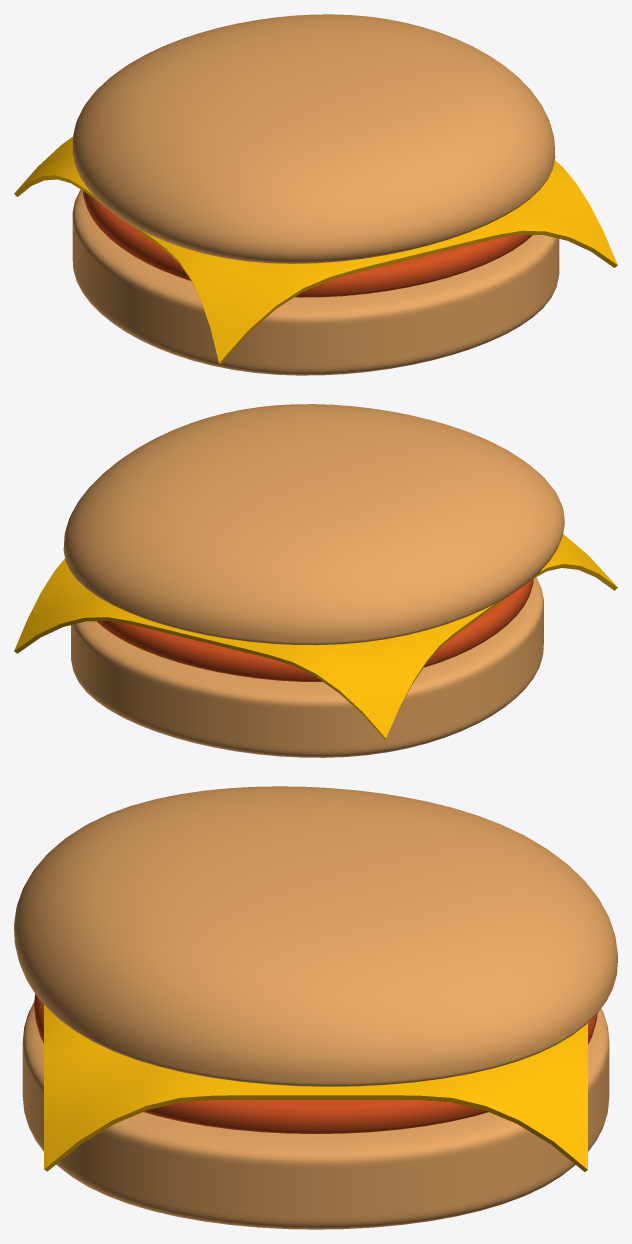
File: hamburger.glb
3 views of the same model, one above another, from view 1: azimuth 30°, elevation 25°; view 2: azimuth 150°, elevation 25°; view 3: azimuth 270°, elevation 25° (orthographic). The views are drawn at different scales.
Parts seen in each view (by area): view 1: Cube.002, Cube, Plane, Cube.001; view 2: Cube.002, Cube, Plane, Cube.001; view 3: Cube.002, Cube, Plane, Cube.001.
Boxes of the visible parts, box(x1,y1,x2,y2) form: Cube.002: box(72, 14, 555, 263); Cube: box(72, 189, 559, 375); Plane: box(14, 137, 617, 364); Cube.001: box(83, 191, 532, 297); Cube.002: box(63, 404, 564, 645); Cube: box(71, 577, 543, 757); Plane: box(14, 534, 617, 739); Cube.001: box(97, 579, 533, 681); Cube.002: box(14, 786, 617, 1086); Cube: box(22, 1002, 609, 1229); Plane: box(44, 1005, 587, 1171); Cube.001: box(34, 994, 597, 1133).
Bounding box in the file's own units: 9.08 × 4.45 × 9.13.
